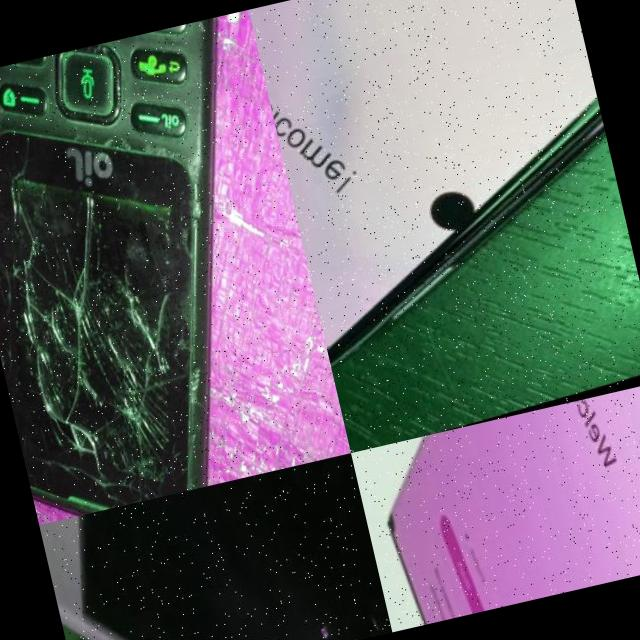dead pixel: (384, 162, 518, 261), (372, 495, 416, 551)
screen crack: (0, 109, 262, 523)
